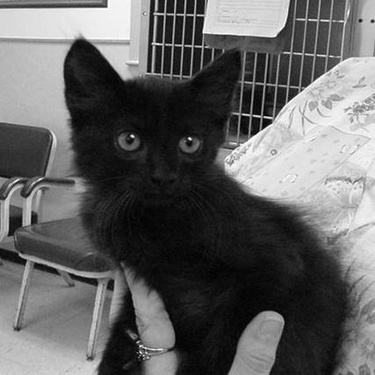cat: (64, 28, 348, 365)
